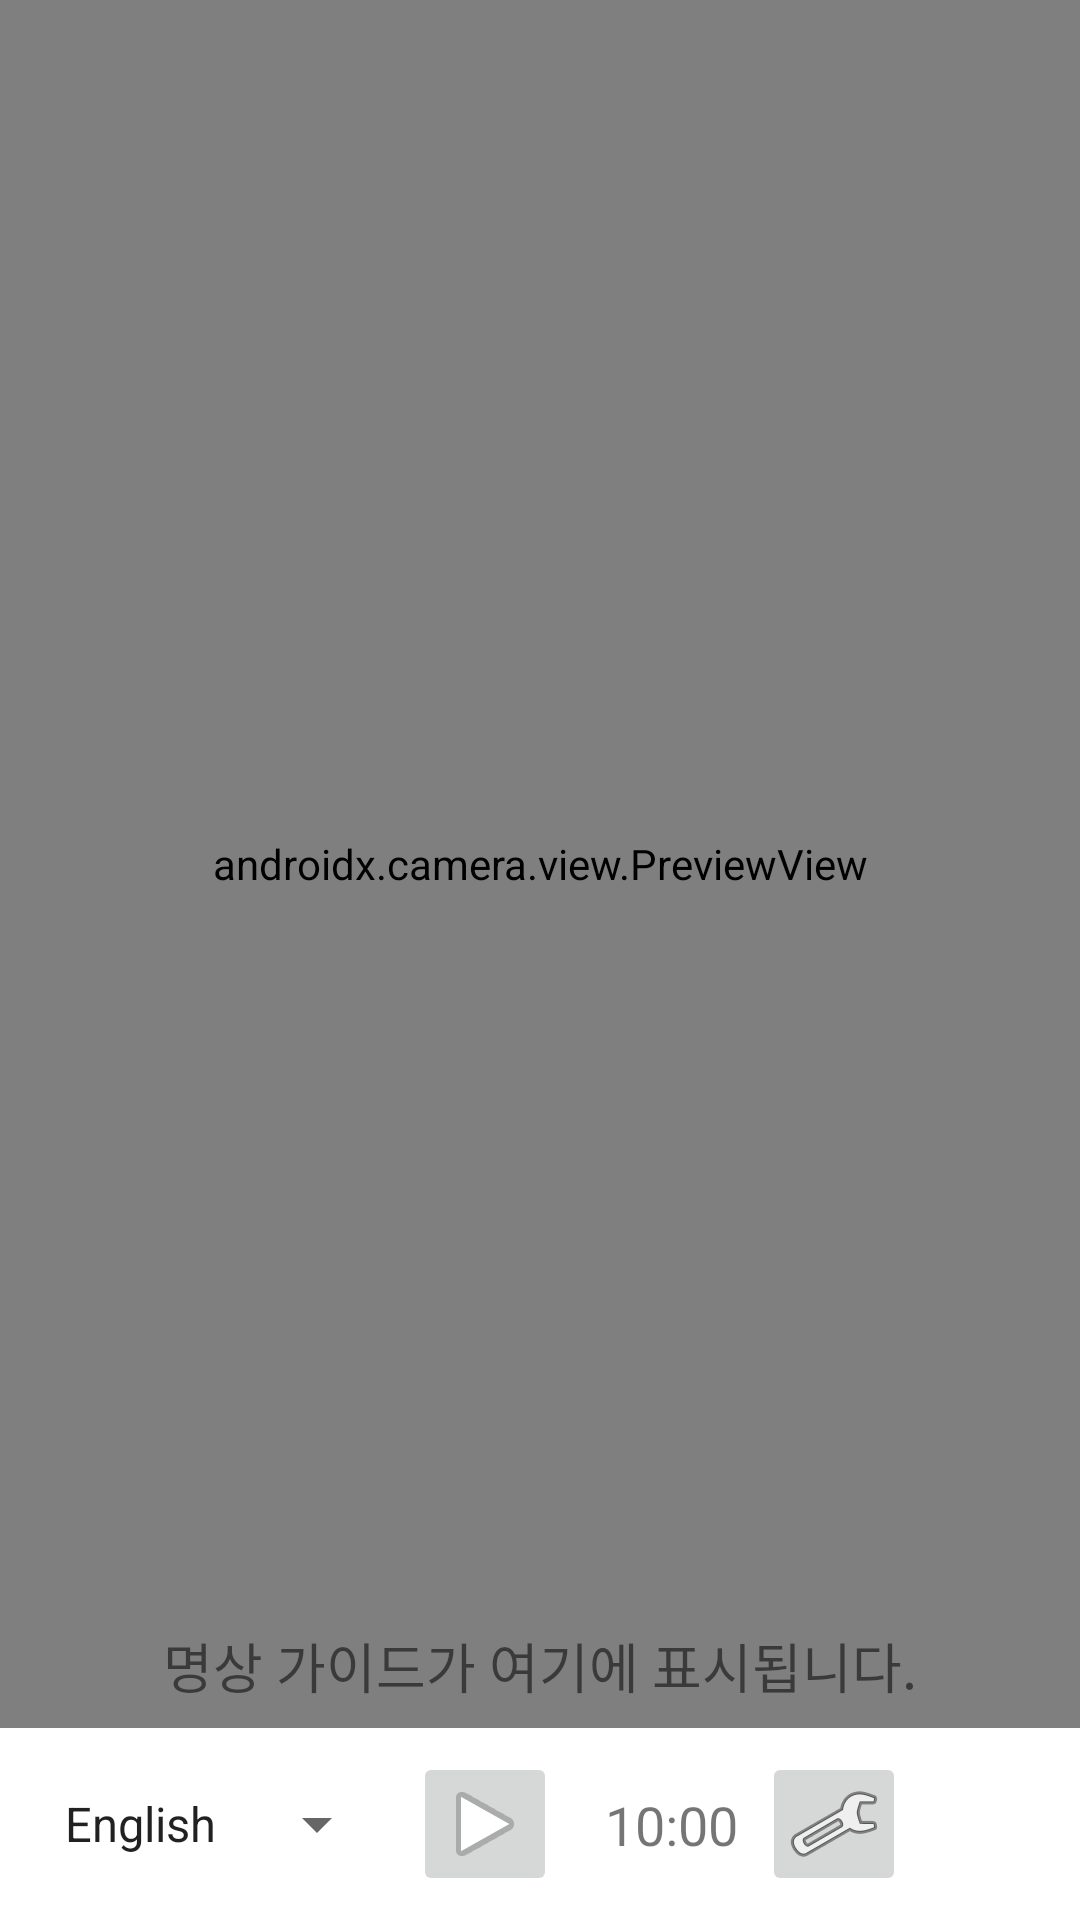

Where icons sit on this 1080×1920 app screen, as bbox(x1, y1, x2, y2):
Settings: bbox(774, 1770, 894, 1878)
Start Meditation: bbox(425, 1770, 545, 1878)
